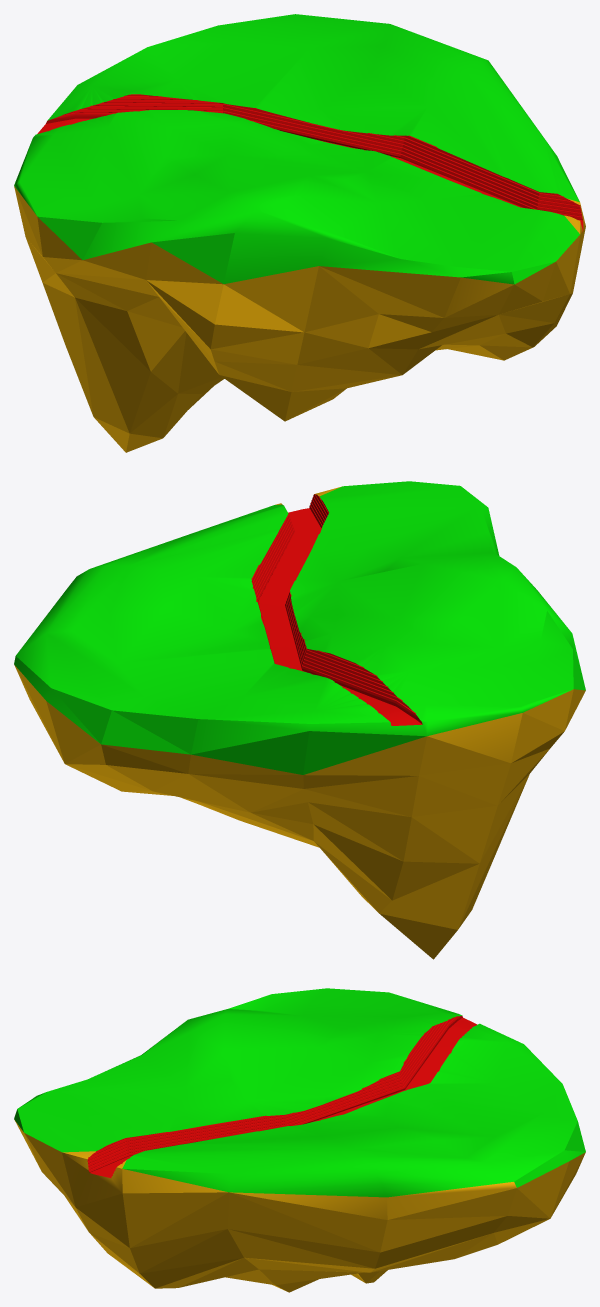
File: LandChunkB_Trench.fbx
3 views of the same model, one above another, from view 1: azimuth 30°, elevation 25°; view 2: azimuth 150°, elevation 25°; view 3: azimuth 270°, elevation 25° (orthographic). The views are drawn at different scales.
Visible parts, largest first — view 1: LandChunkB_Trench; view 2: LandChunkB_Trench; view 3: LandChunkB_Trench.
Boxes of the visible parts, box(x1,y1,x2,y2) form: LandChunkB_Trench: box(14, 14, 585, 452); LandChunkB_Trench: box(14, 481, 585, 959); LandChunkB_Trench: box(14, 988, 585, 1292).
Bounding box in the file's own units: 90.42 × 56.95 × 107.
